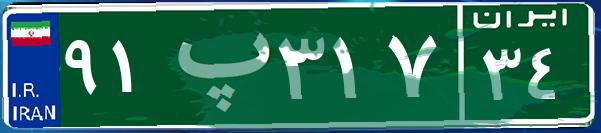1: (330, 28, 385, 110), (110, 28, 158, 105)
3: (273, 28, 330, 110), (475, 38, 525, 113)
4: (525, 38, 570, 115)
7: (385, 28, 445, 110)
9: (57, 26, 110, 107)
پ: (158, 15, 273, 115)
